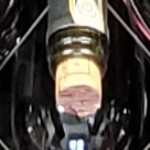bottle: (30, 25, 127, 122)
